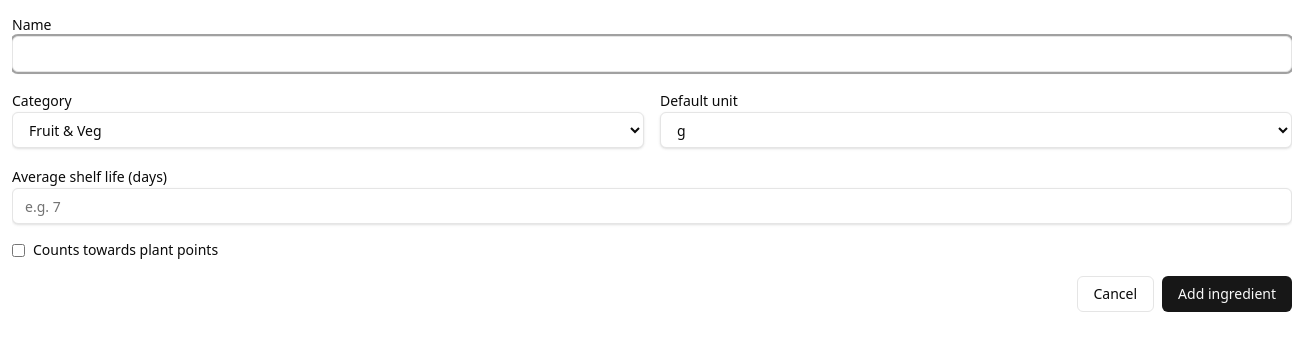
Scenario: IngredientForm › rejects negative shelf life
In the field labelled "Name": (652, 54) x1=12 y1=36 x2=1292 y2=72, type "Onion"
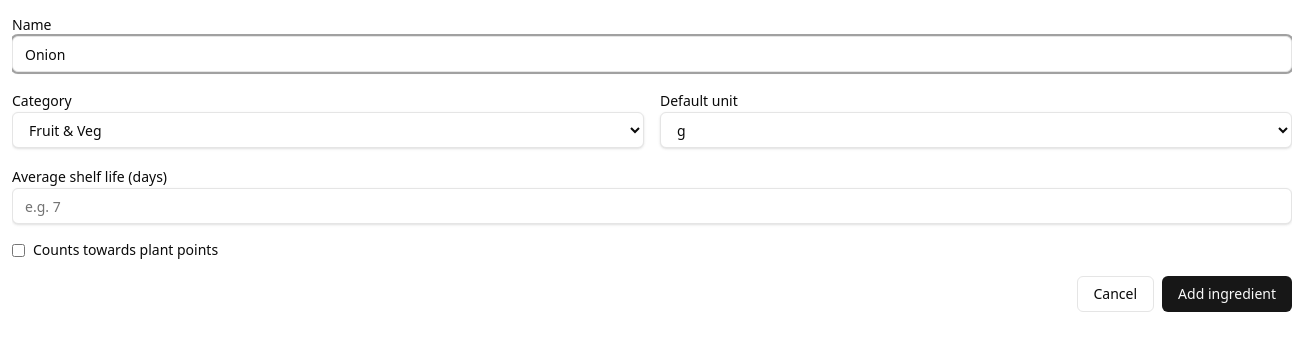
In the number field labelled "Average shelf life (days)": (652, 206) x1=12 y1=188 x2=1292 y2=224, type "-5"
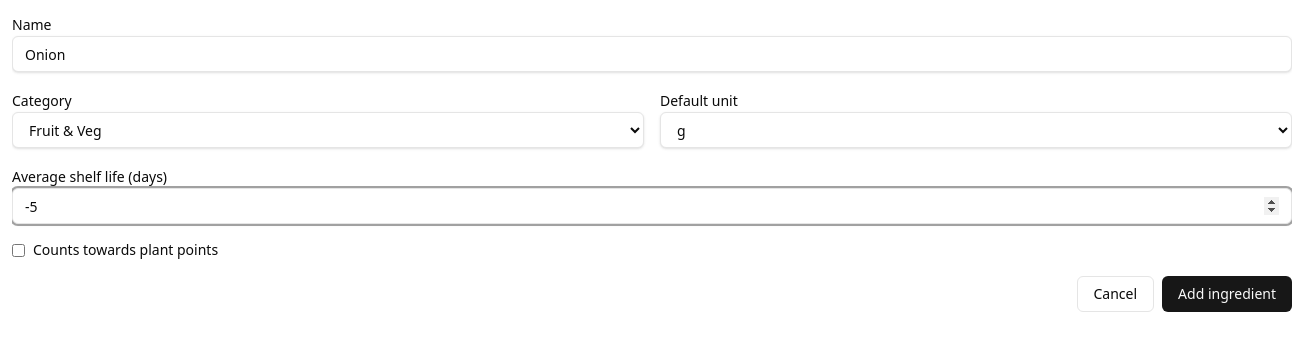
Click the button "Add ingredient": (1227, 294) x1=1162 y1=276 x2=1292 y2=312
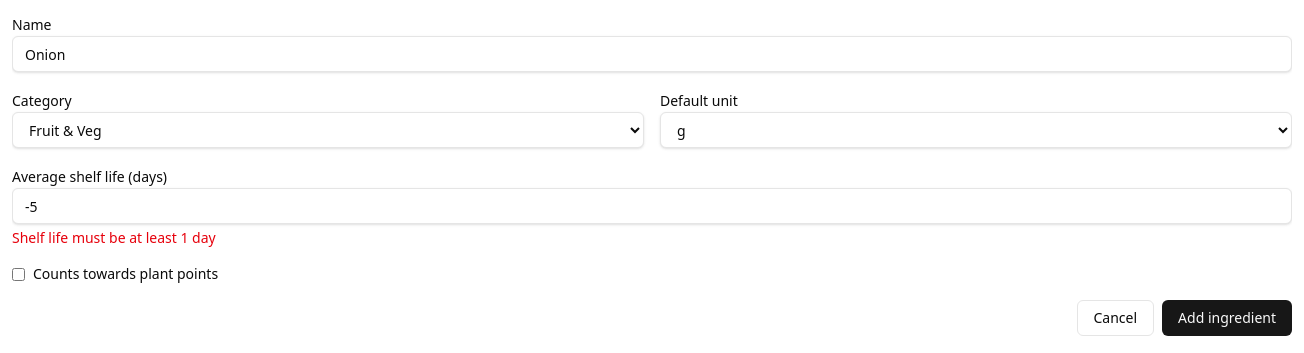
Check: the message shows "at least 1 day", box x1=12 y1=228 x2=216 y2=247
